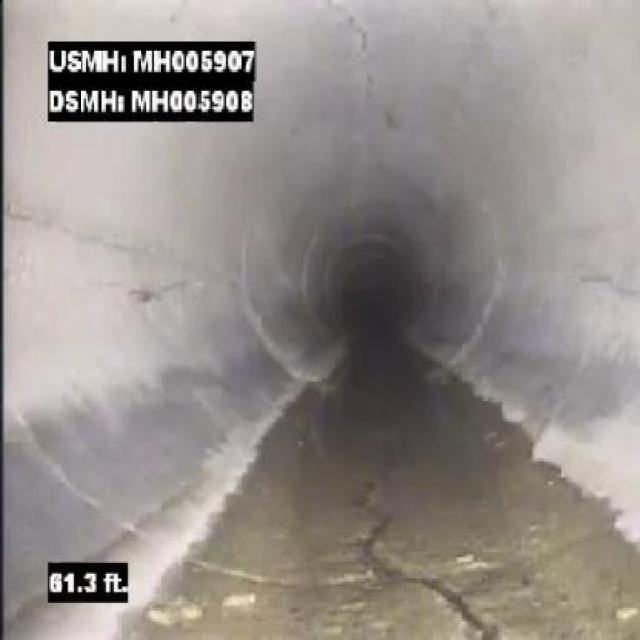Crack: (420, 578, 498, 638), (340, 8, 382, 117), (356, 475, 396, 571), (129, 274, 203, 308), (575, 271, 634, 298)
